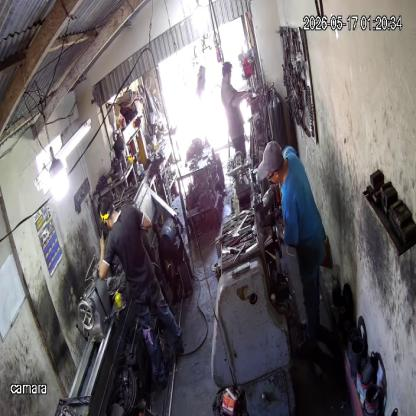lentes: (266, 166, 278, 182)
